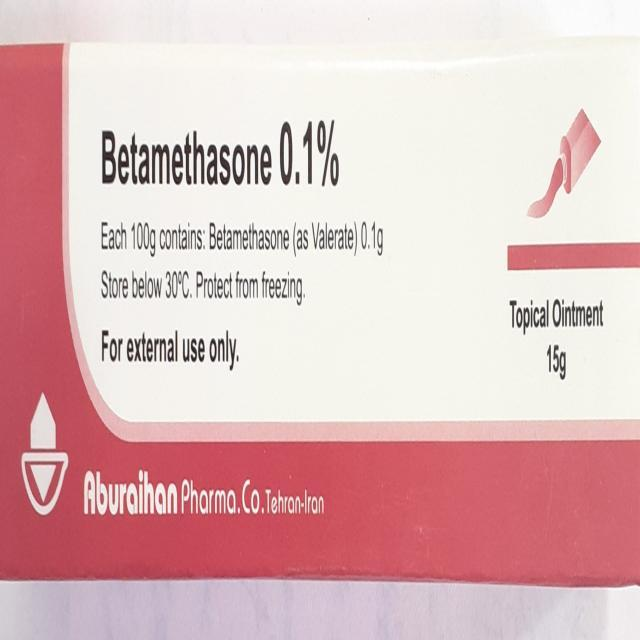drug-name: (97, 117, 346, 206)
